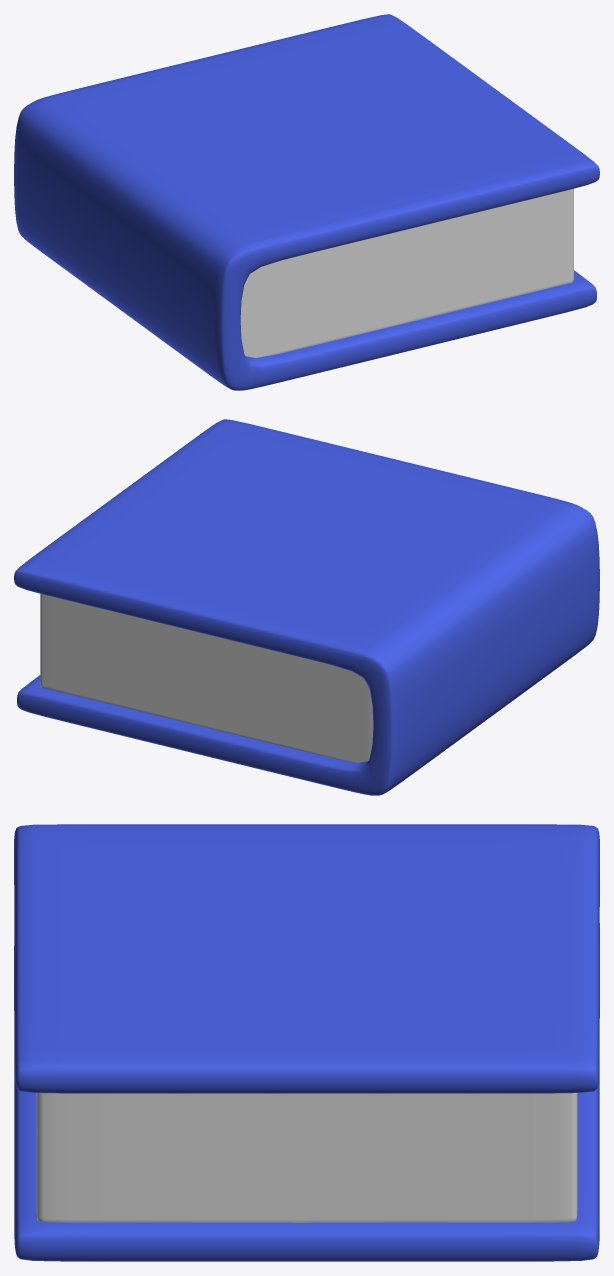
The model's file is book.glb.
The picture shows the model from 3 angles, top to bottom: view 1: azimuth 30°, elevation 25°; view 2: azimuth 150°, elevation 25°; view 3: azimuth 270°, elevation 25°; orthographic projection. The views are drawn at different scales.
Visible parts, largest first — view 1: Book; view 2: Book; view 3: Book.
Part boxes in pixels (left/top/right/bottom): Book: left=14, top=14, right=599, bottom=390; Book: left=14, top=419, right=599, bottom=795; Book: left=14, top=824, right=599, bottom=1261.
Bounding box in the file's own units: 27.8 × 10.08 × 26.5.
